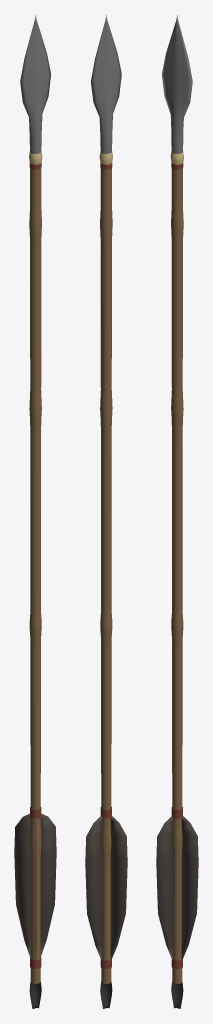
Rendered from arrow.glb.
3 views of the same model, side by side, from view 1: azimuth 30°, elevation 25°; view 2: azimuth 210°, elevation 25°; view 3: azimuth 330°, elevation 25° (orthographic).
Visible parts, largest first — view 1: Arrow_Shaft, Broadhead_Bhalla, Fletching_Vane_2, Fletching_Vane_1, Fletching_Vane_3, Horn_Nock, Arrow_Brass_Collar; view 2: Arrow_Shaft, Broadhead_Bhalla, Fletching_Vane_1, Fletching_Vane_2, Horn_Nock, Arrow_Brass_Collar; view 3: Arrow_Shaft, Broadhead_Bhalla, Fletching_Vane_3, Fletching_Vane_1, Horn_Nock, Arrow_Brass_Collar.
Part boxes in pixels (x1,y1,x2,y2): Arrow_Shaft: (29,168,41,983); Broadhead_Bhalla: (20,15,50,153); Fletching_Vane_2: (14,813,30,957); Fletching_Vane_1: (40,813,56,956); Fletching_Vane_3: (35,817,36,960); Horn_Nock: (29,982,41,1008); Arrow_Brass_Collar: (29,151,42,164); Arrow_Shaft: (100,168,112,983); Broadhead_Bhalla: (90,15,121,153); Fletching_Vane_1: (85,815,102,960); Fletching_Vane_2: (110,815,127,959); Horn_Nock: (100,982,112,1008); Arrow_Brass_Collar: (99,151,112,164); Arrow_Shaft: (171,168,183,983); Broadhead_Bhalla: (162,15,192,153); Fletching_Vane_3: (156,816,173,959); Fletching_Vane_1: (181,815,198,959); Horn_Nock: (171,982,183,1008); Arrow_Brass_Collar: (170,151,183,164).
Bounding box in the file's own units: 0.0353 × 0.919 × 0.0355.
